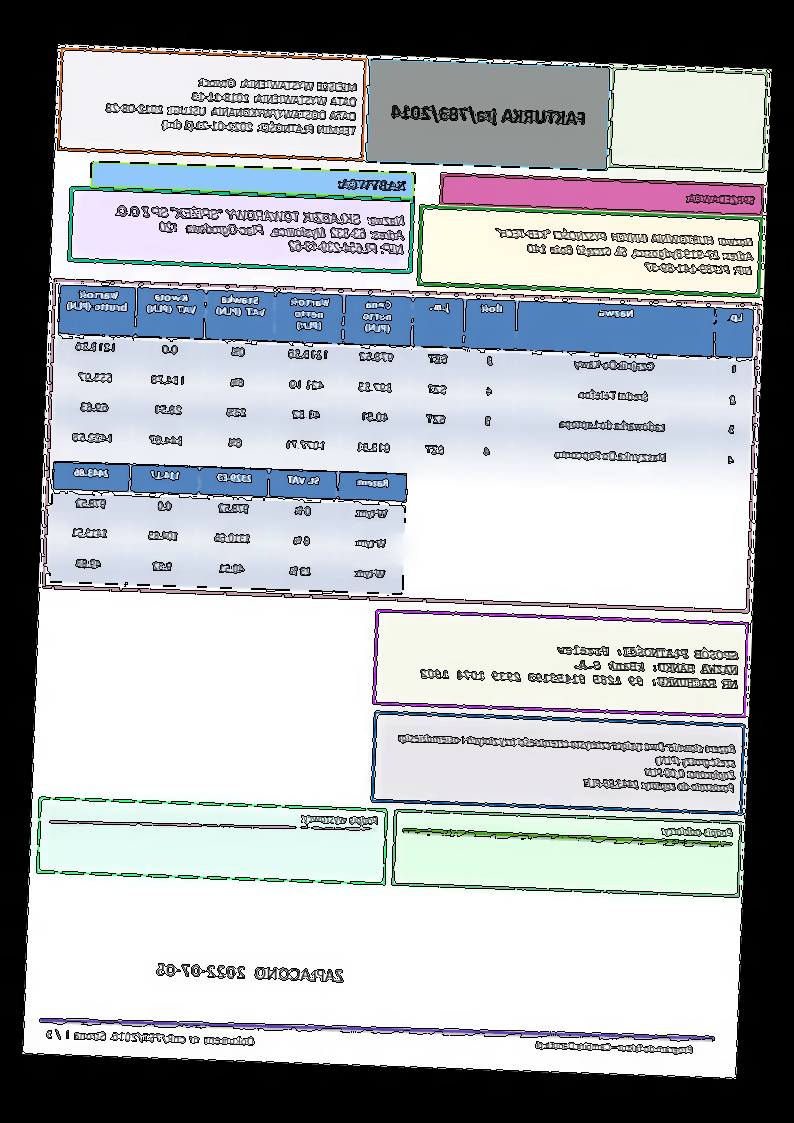Table: (53, 282, 756, 482), (50, 459, 408, 595)
TextBox: (394, 729, 738, 796), (419, 635, 740, 694), (101, 70, 360, 139), (113, 201, 408, 261), (493, 224, 756, 281), (388, 101, 589, 129), (156, 959, 347, 985), (44, 1026, 256, 1049), (533, 1036, 695, 1057), (299, 810, 382, 830), (685, 189, 759, 209), (660, 822, 735, 841), (336, 175, 409, 194)
